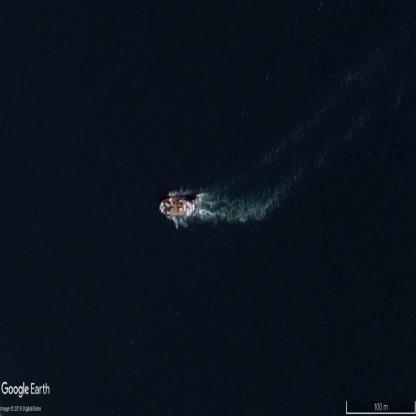ship: (160, 197, 199, 218)
